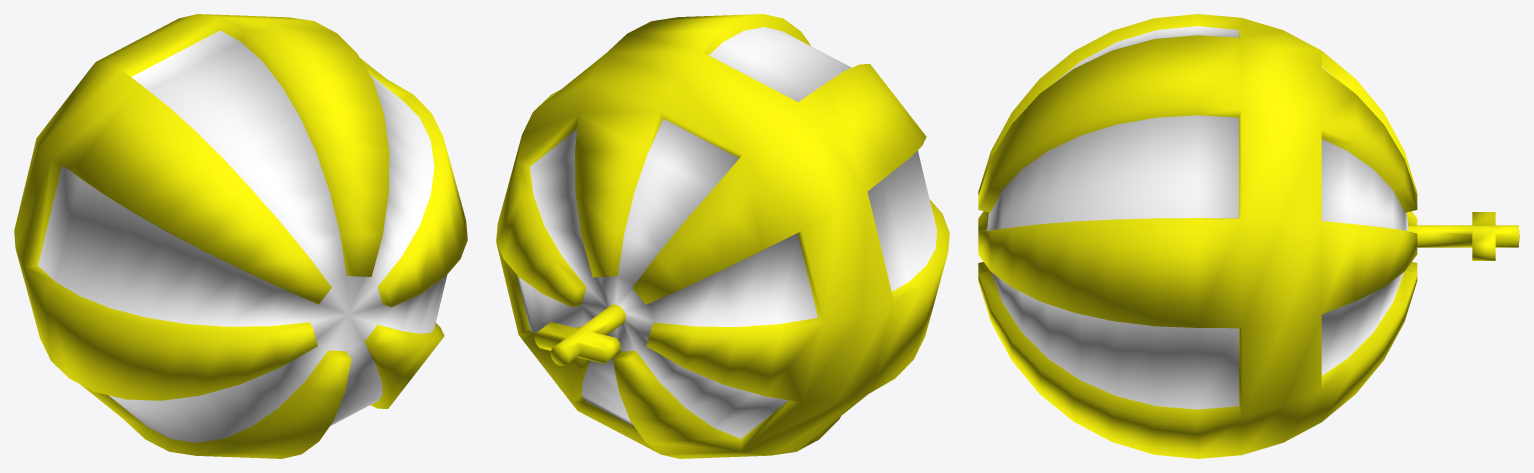
The model's file is item-holyhandgrenade.glb.
The picture shows the model from 3 angles, left to right: view 1: azimuth 30°, elevation 25°; view 2: azimuth 150°, elevation 25°; view 3: azimuth 270°, elevation 25°; orthographic projection.
Size of the model in its own units: 2.12 by 2.12 by 2.56.
